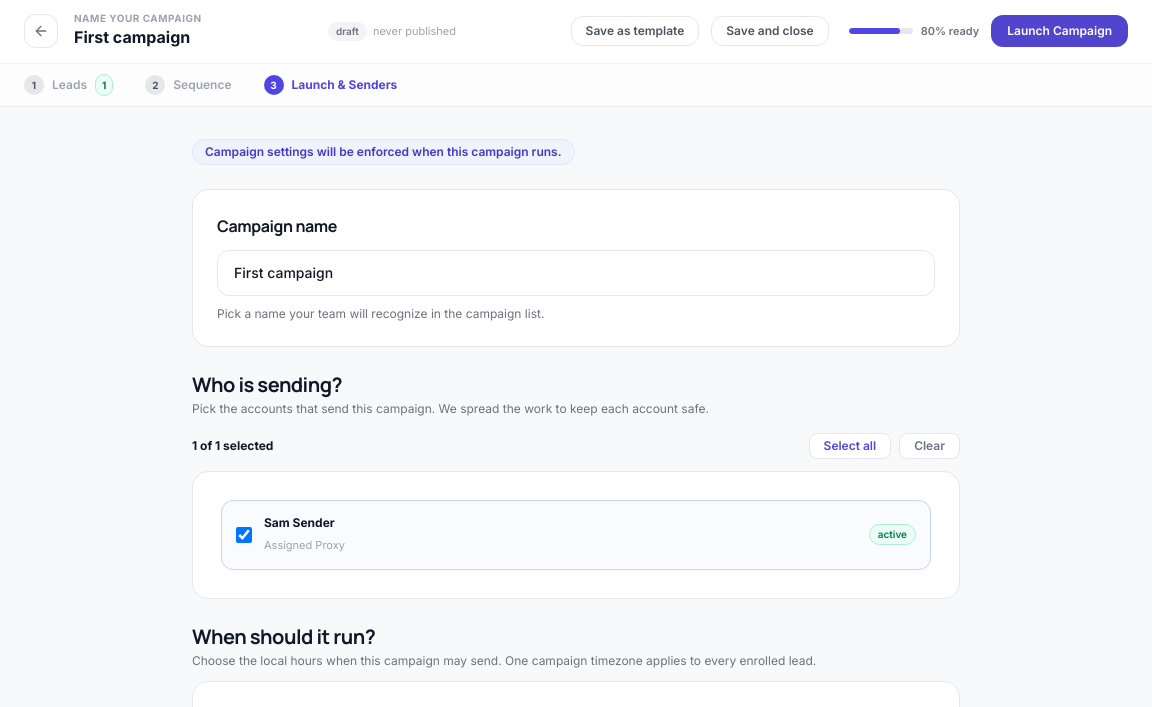
Test: First campaign wizard › keeps the launch review open and shows the backend capability blocker
The width and height of the screenshot is (1152, 707).
Click the button "Launch Campaign" at [1060, 31], box top-left (991, 15), bottom-right (1128, 47)
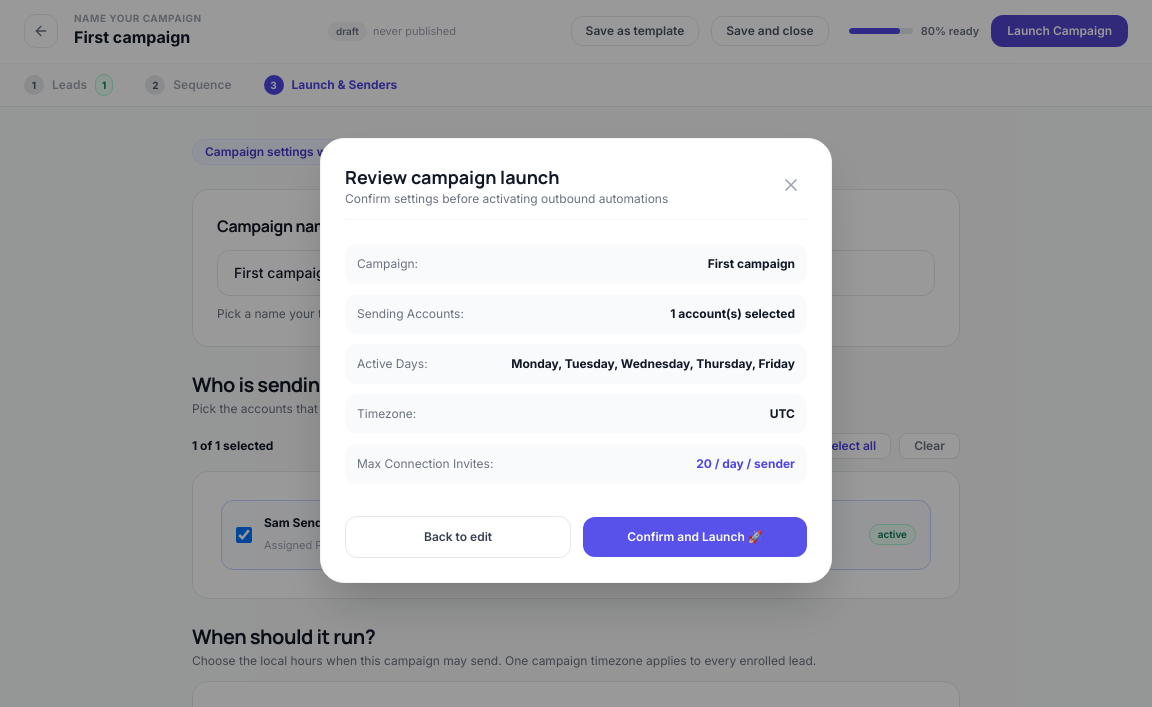
Click the button "Confirm and Launch 🚀" at [695, 536], box top-left (583, 516), bottom-right (807, 556)
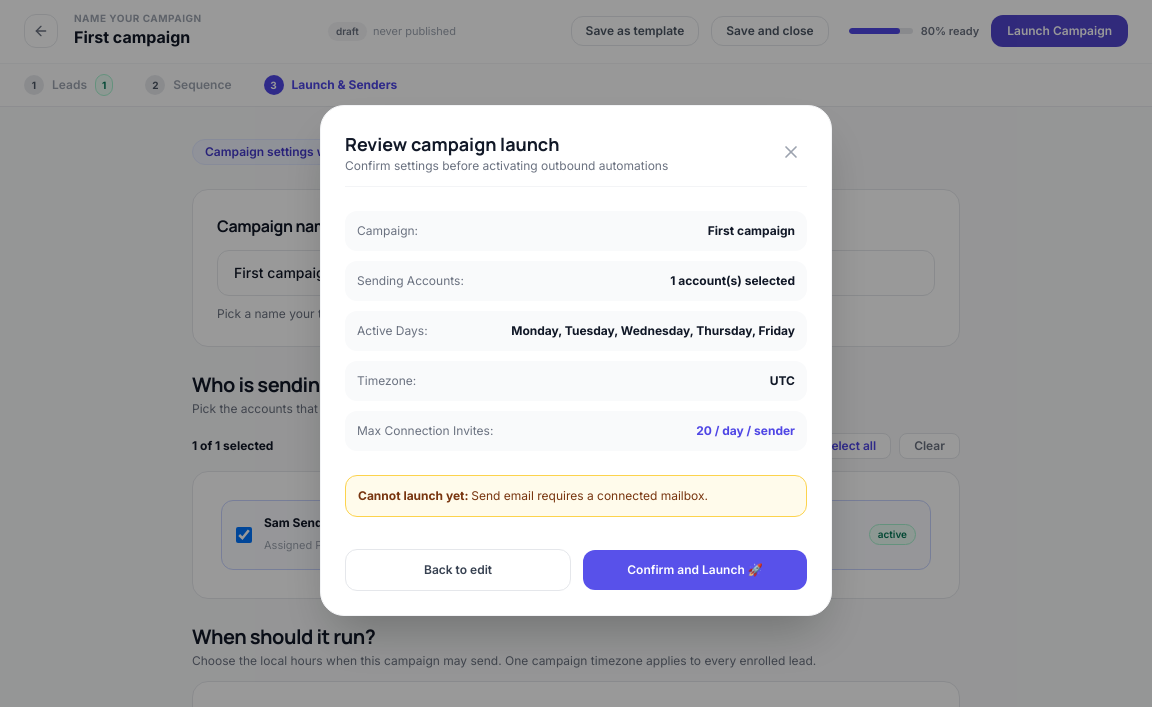
Expected: the text "Review campaign launch" is shown, top-left (345, 132), bottom-right (560, 156)
Expected: the text "Send email requires a connected mailbox." is shown, top-left (471, 488), bottom-right (708, 502)
